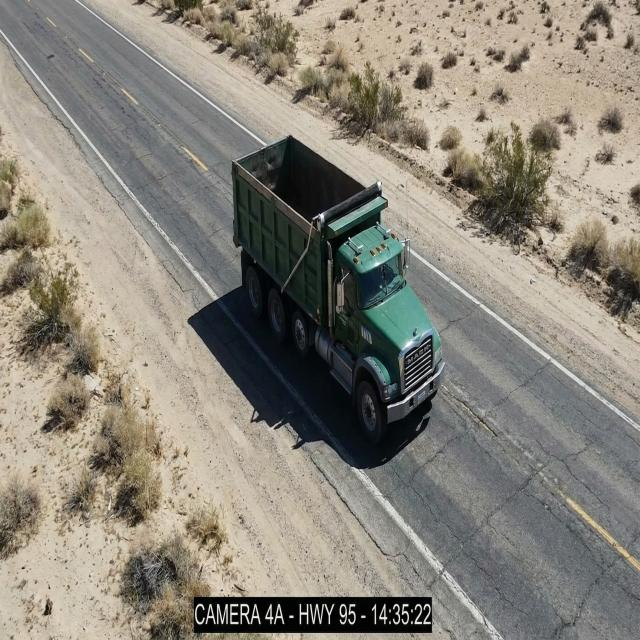trailer: (230, 132, 387, 238)
truck: (225, 127, 448, 433)
